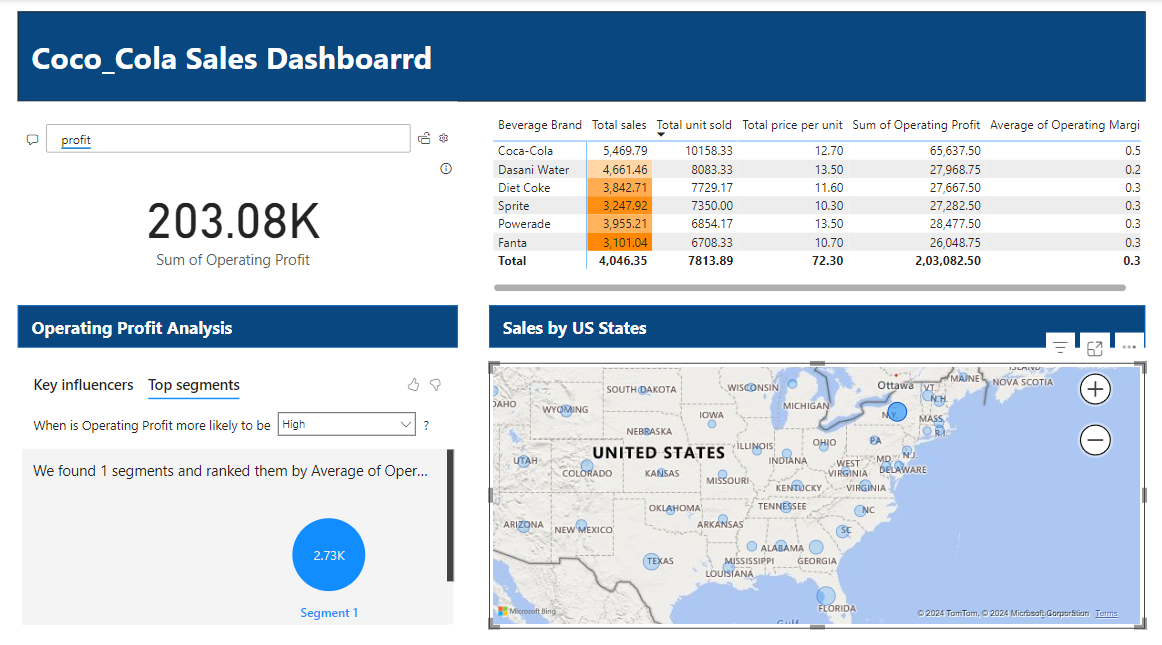

This screenshot's page, from the dashboard's own definition file:
{"tool":"powerbi","page":{"name":"Page 1","canvas":[1280,720],"ordinal":0},"visuals":[{"type":"shape","box":[20.6,13.7,1237.7,98.8],"z":0},{"type":"shape","box":[20.6,336.2,483,46.7],"z":1},{"type":"shape","box":[537.9,336.2,720.4,46.7],"z":2},{"type":"qnaVisual","box":[20.6,112.5,483,203.1],"z":3},{"type":"keyDriversVisual","fields":{"Target":["Data.Operating Profit"],"ExplainBy":["Data.Beverage Brand"]},"box":[20.6,399.3,483,292.3],"z":4},{"type":"map","fields":{"Category":["Data.State"],"Size":["Sum(Data.Total Sales)"]},"box":[537.9,399.3,720.4,292.3],"z":5},{"type":"pivotTable","fields":{"Rows":["Data.Beverage Brand"],"Values":["Avg(Data.Total Sales)","Avg(Data.Units Sold)","Sum(Data.Price per Unit)","Sum(Data.Operating Profit)","Avg(Data.Operating Margin)"]},"box":[537.9,122.1,720.4,204.5],"z":6}]}

Visuals, with their boxes on the page's 1280x720 design canvas (x1, y1, x2, y2). These are canvas units, not pixel positions in the 1162x645 screenshot, which may show the page scaled, cropped or inside an application window:
shape: [21, 14, 1258, 112]
shape: [21, 336, 504, 383]
shape: [538, 336, 1258, 383]
qnaVisual: [21, 112, 504, 316]
keyDriversVisual - Data.Operating Profit x Data.Beverage Brand: [21, 399, 504, 692]
map - Data.State x Sum(Data.Total Sales): [538, 399, 1258, 692]
pivotTable - Data.Beverage Brand x Avg(Data.Total Sales): [538, 122, 1258, 327]
